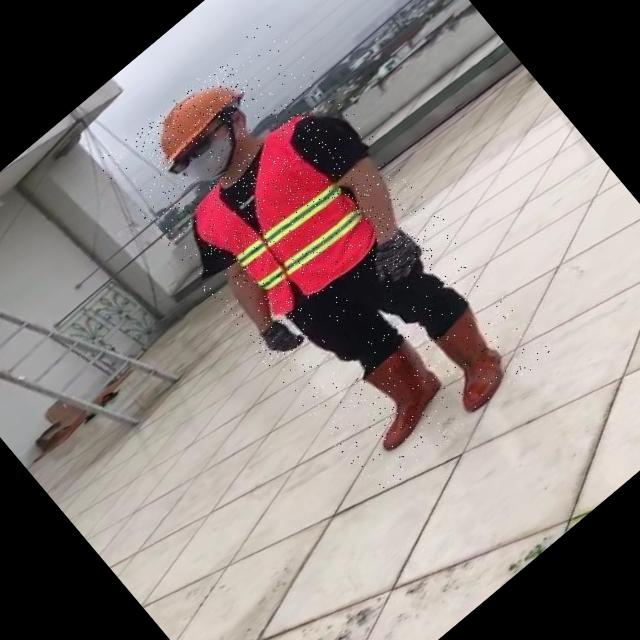hard_hat: (133, 62, 252, 172)
safety_vest: (178, 107, 402, 330)
vehicle: (96, 14, 554, 498)
work_boots: (339, 336, 458, 454), (412, 304, 523, 418)
